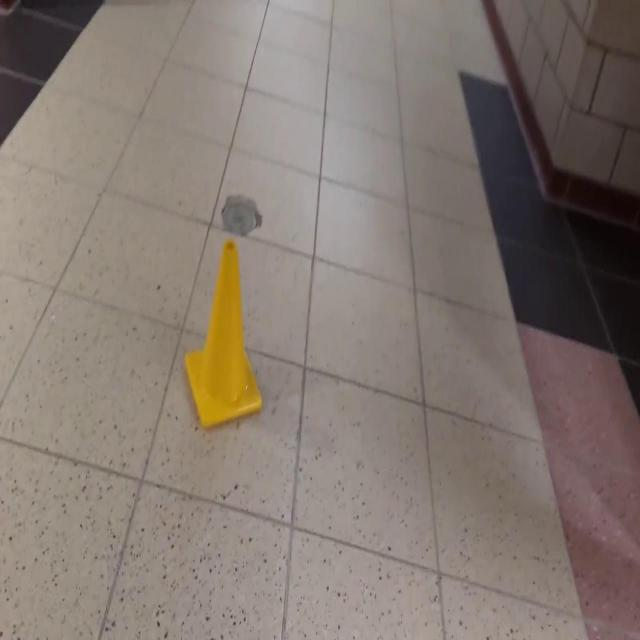frc_cone: (183, 237, 263, 430)
